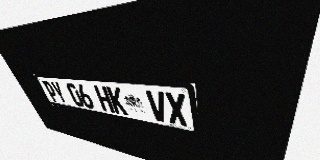0: (65, 83, 85, 107)
6: (75, 84, 95, 109)
H: (93, 85, 115, 113)
K: (106, 86, 128, 115)
P: (42, 81, 60, 103)
V: (145, 90, 169, 123)
X: (164, 92, 188, 127)
Y: (49, 81, 69, 104)
